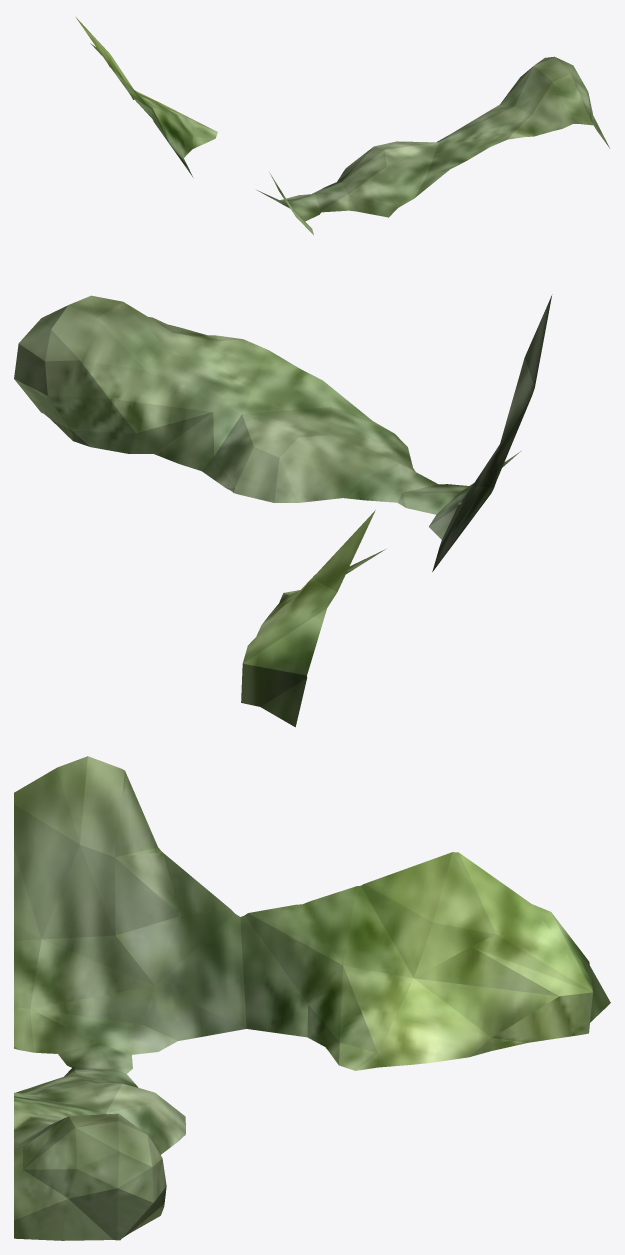
The picture shows the model from 3 angles, top to bottom: view 1: azimuth 30°, elevation 25°; view 2: azimuth 150°, elevation 25°; view 3: azimuth 270°, elevation 25°; orthographic projection. The views are drawn at different scales.
Size of the model in its own units: 1.41 by 0.6682 by 1.46.
1 material, 1 textured.
